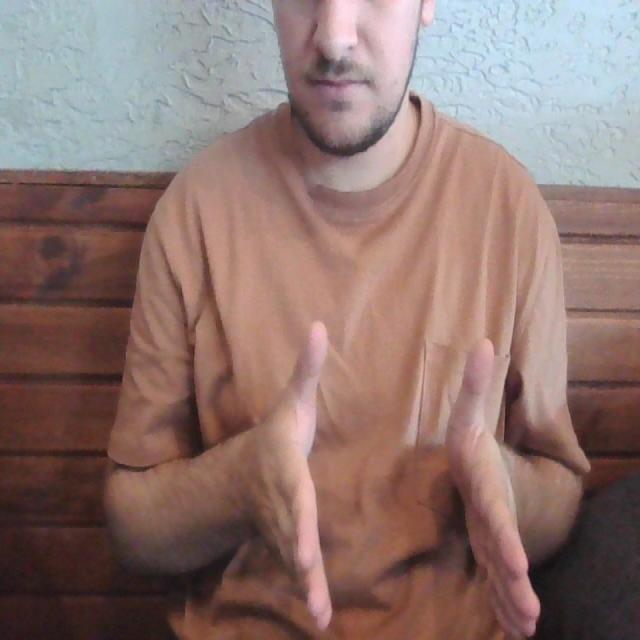Nasil: (249, 299, 545, 640)
